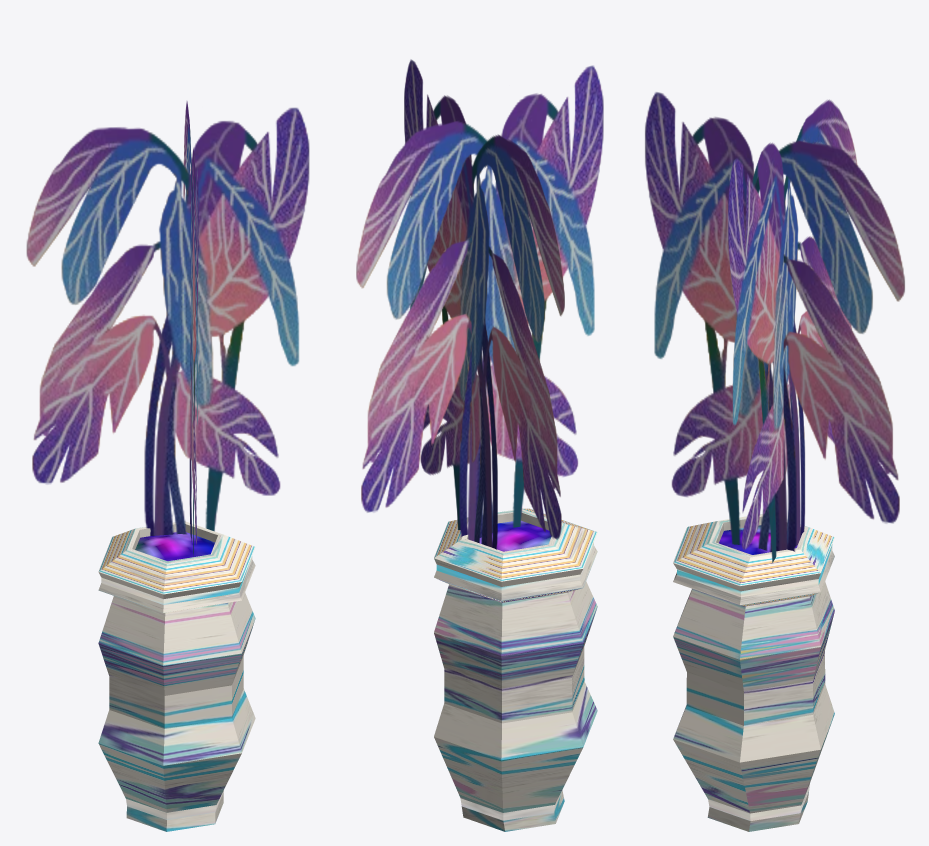
Rendered from pot-retro-05.glb.
3 renders of one model, left to right at view 1: azimuth 30°, elevation 25°; view 2: azimuth 150°, elevation 25°; view 3: azimuth 270°, elevation 25°, orthographic. The views are drawn at different scales.
Parts seen in each view (by area): view 1: Pot_Retro_05; view 2: Pot_Retro_05; view 3: Pot_Retro_05.
Boxes of the visible parts, bbox=[...] form: Pot_Retro_05: bbox=[26, 101, 309, 831]; Pot_Retro_05: bbox=[356, 59, 603, 831]; Pot_Retro_05: bbox=[645, 92, 904, 831].
Bounding box in the file's own units: 1.01 × 2.95 × 0.9955.
4 materials, 4 textured.
